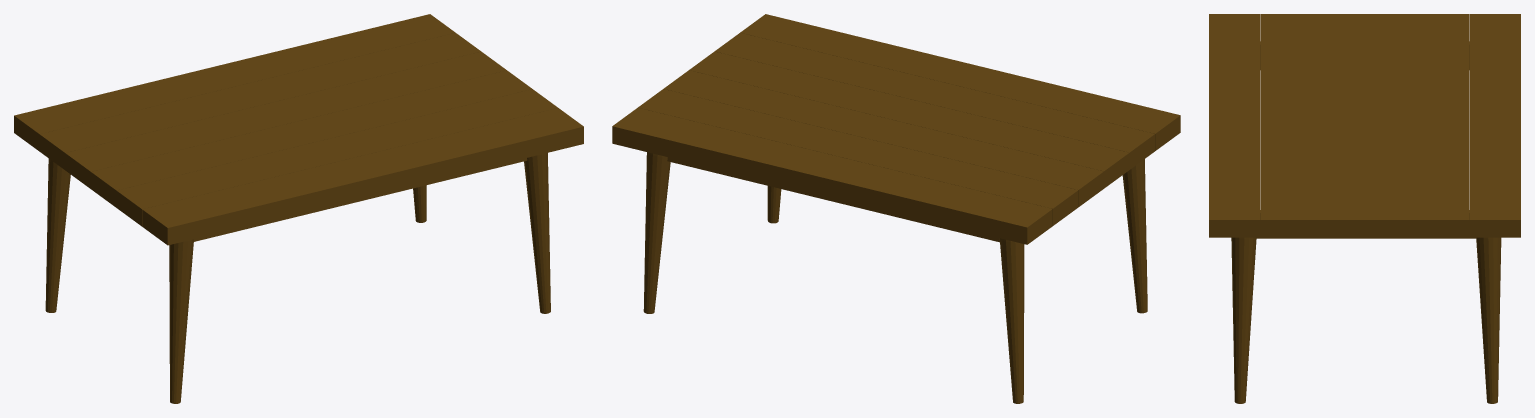
The model's file is CoffeeTable_1.fbx.
3 renders of one model, left to right at view 1: azimuth 30°, elevation 25°; view 2: azimuth 150°, elevation 25°; view 3: azimuth 270°, elevation 25°, orthographic.
Parts seen in each view (by area): view 1: CoffeeTable1; view 2: CoffeeTable1; view 3: CoffeeTable1.
Part boxes in pixels (x1,y1,x2,y2): CoffeeTable1: (14,14,583,403); CoffeeTable1: (612,14,1180,403); CoffeeTable1: (1209,14,1520,403).
Bounding box in the file's own units: 380 × 167 × 243.
